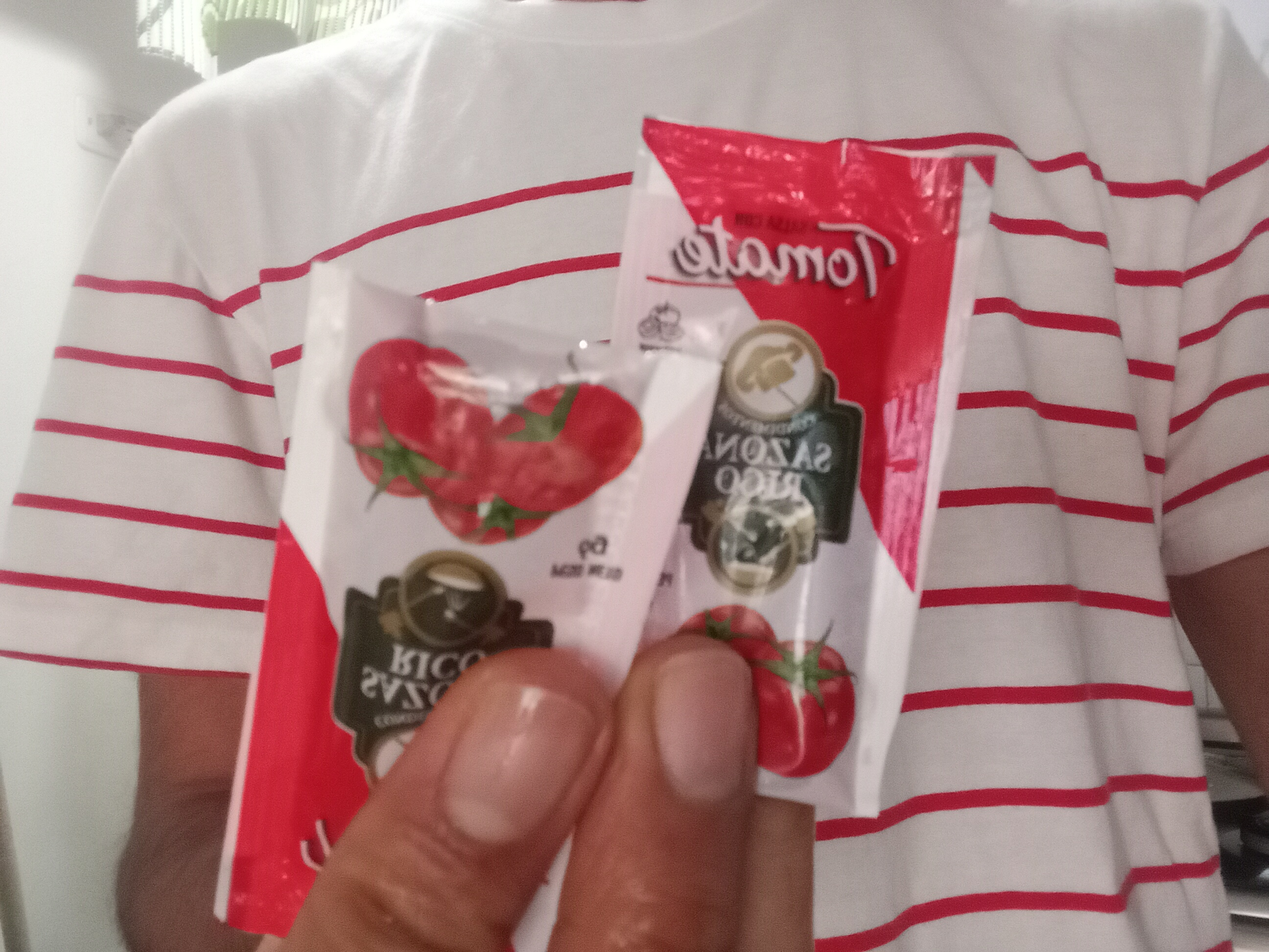Ordinario: (216, 264, 733, 952), (612, 117, 1001, 823)
